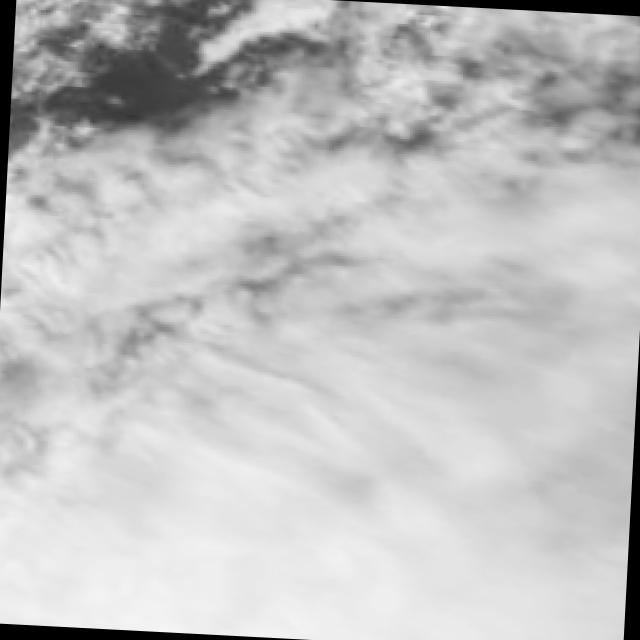CB: (0, 205, 237, 435), (374, 263, 640, 460), (222, 196, 435, 414), (349, 415, 552, 640), (409, 98, 640, 293), (171, 415, 359, 640), (0, 421, 195, 633), (528, 430, 634, 640)
